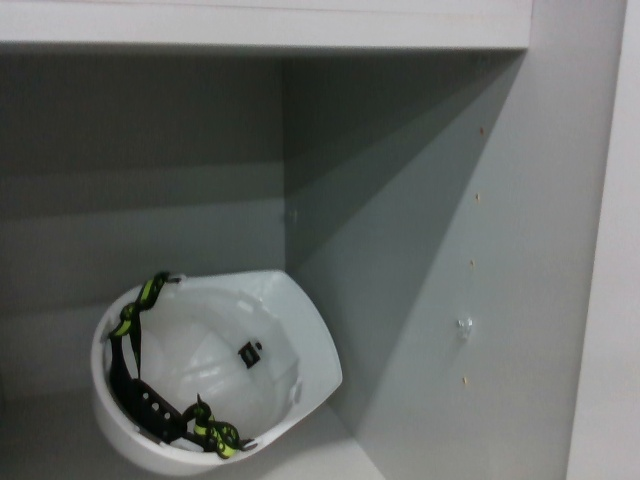helmet: (78, 265, 348, 480)
